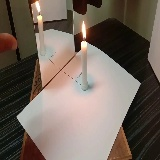fire: (82, 21, 86, 40)
